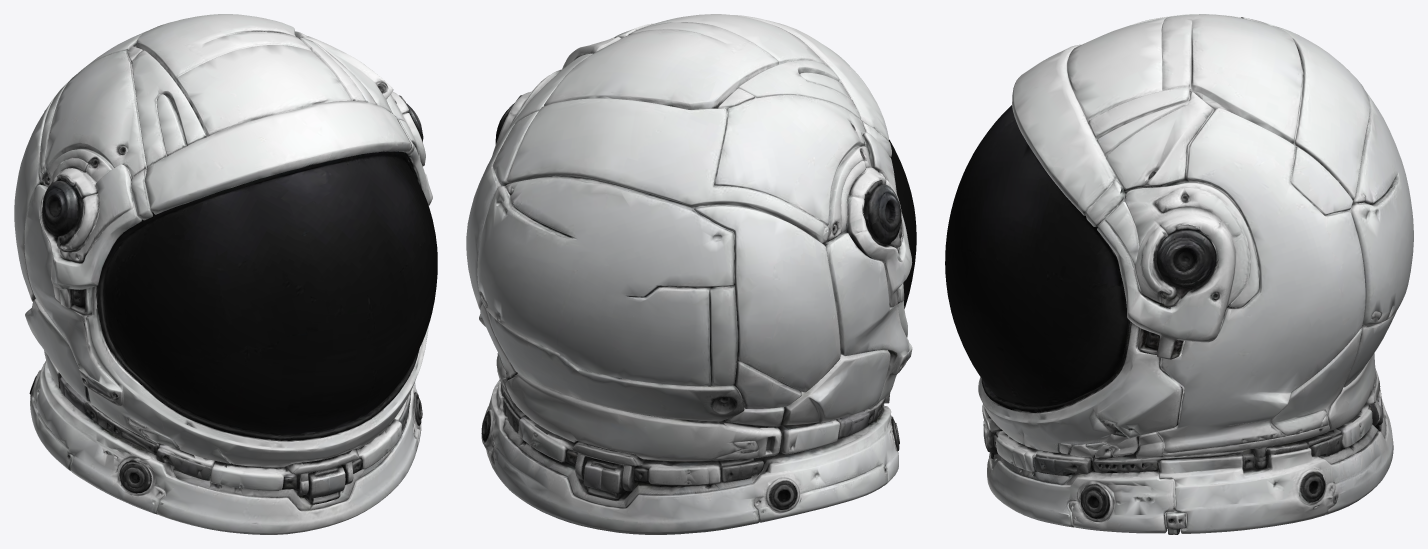
The model's file is helmet.glb.
3 views of the same model, side by side, from view 1: azimuth 30°, elevation 25°; view 2: azimuth 150°, elevation 25°; view 3: azimuth 270°, elevation 25° (orthographic). The views are drawn at different scales.
Visible parts, largest first — view 1: tripo_node_7ffdc770-b794-453c-ab2a-be6f7f617a26; view 2: tripo_node_7ffdc770-b794-453c-ab2a-be6f7f617a26; view 3: tripo_node_7ffdc770-b794-453c-ab2a-be6f7f617a26.
Part boxes in pixels (x1=…): tripo_node_7ffdc770-b794-453c-ab2a-be6f7f617a26: x1=14, y1=14, x2=437, y2=534; tripo_node_7ffdc770-b794-453c-ab2a-be6f7f617a26: x1=466, y1=14, x2=916, y2=534; tripo_node_7ffdc770-b794-453c-ab2a-be6f7f617a26: x1=945, y1=14, x2=1413, y2=534.
Bounding box in the file's own units: 0.8941 × 0.9796 × 0.9245.
1 material, 1 textured.
